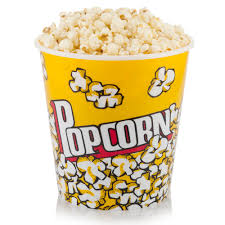popcorn: (26, 3, 196, 215)
